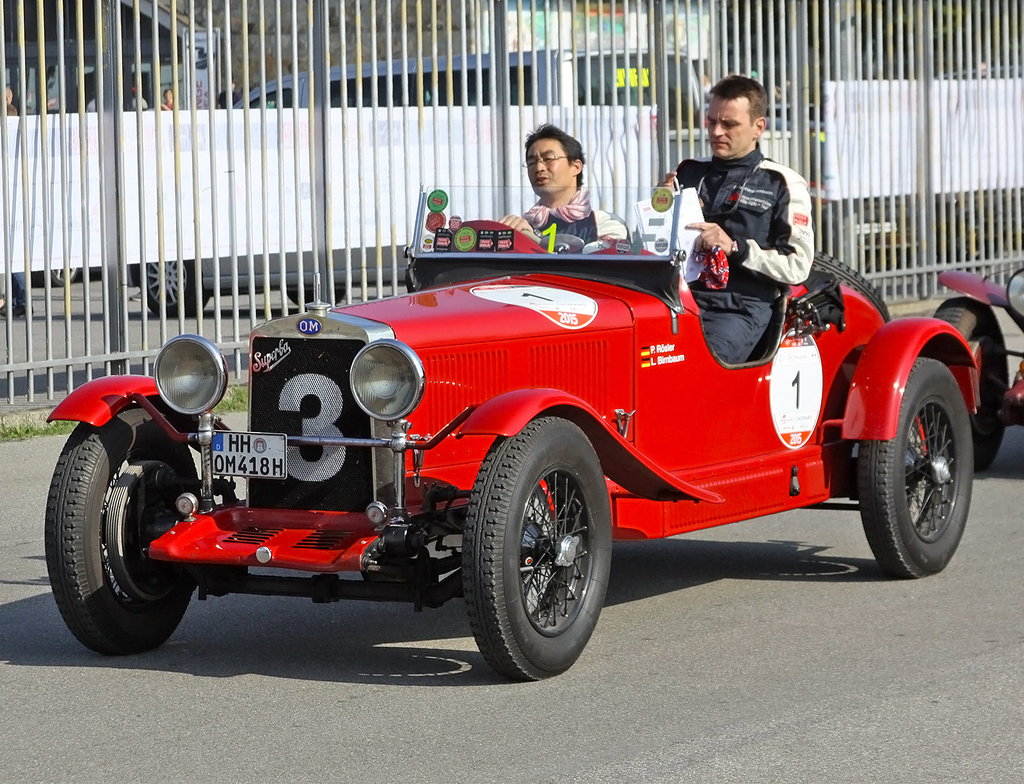Person: (634, 72, 815, 365), (496, 124, 627, 255)
